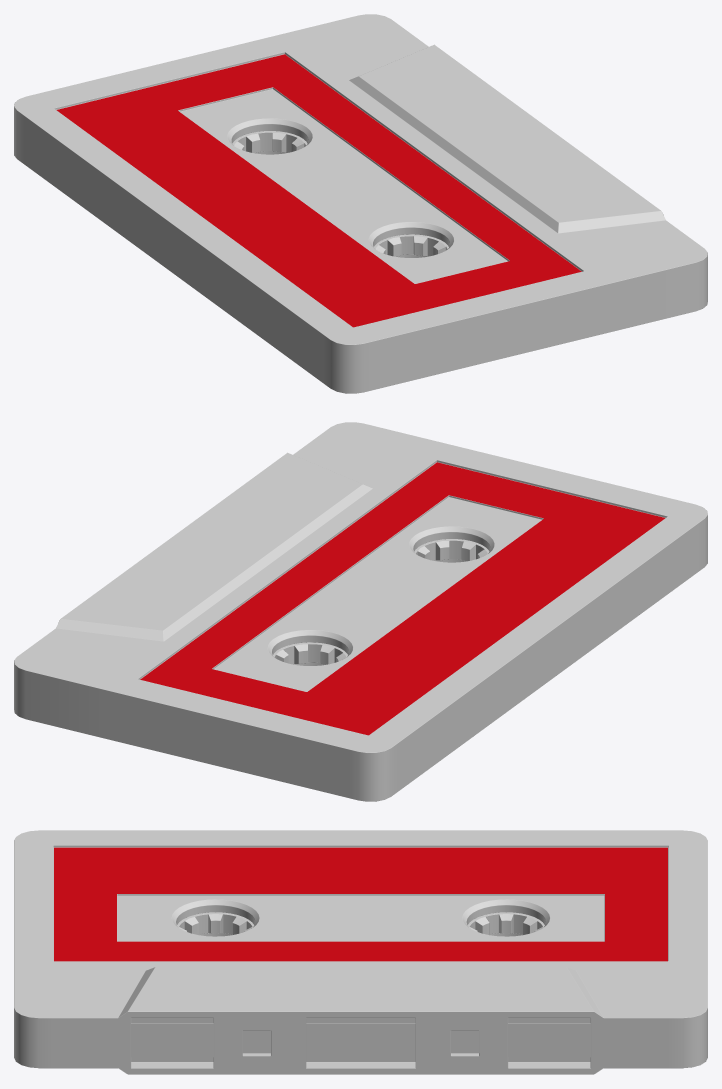
Rendered from CassetteFinal.fbx.
The picture shows the model from 3 angles, top to bottom: view 1: azimuth 30°, elevation 25°; view 2: azimuth 150°, elevation 25°; view 3: azimuth 270°, elevation 25°; orthographic projection. The views are drawn at different scales.
Parts seen in each view (by area): view 1: Cassette, bonbine2, bobine; view 2: Cassette, bobine, bonbine2; view 3: Cassette, bande, bobine, bonbine2.
Part boxes in pixels (x1,y1,x2,y2): Cassette: [14, 14, 707, 393]; bonbine2: [374, 234, 448, 256]; bobine: [232, 131, 307, 153]; Cassette: [14, 422, 707, 801]; bobine: [273, 642, 347, 664]; bonbine2: [414, 539, 489, 561]; Cassette: [14, 830, 707, 1074]; bande: [131, 1023, 590, 1057]; bobine: [467, 912, 544, 934]; bonbine2: [177, 912, 254, 934].
Bounding box in the file's own units: 320 × 50 × 500.
